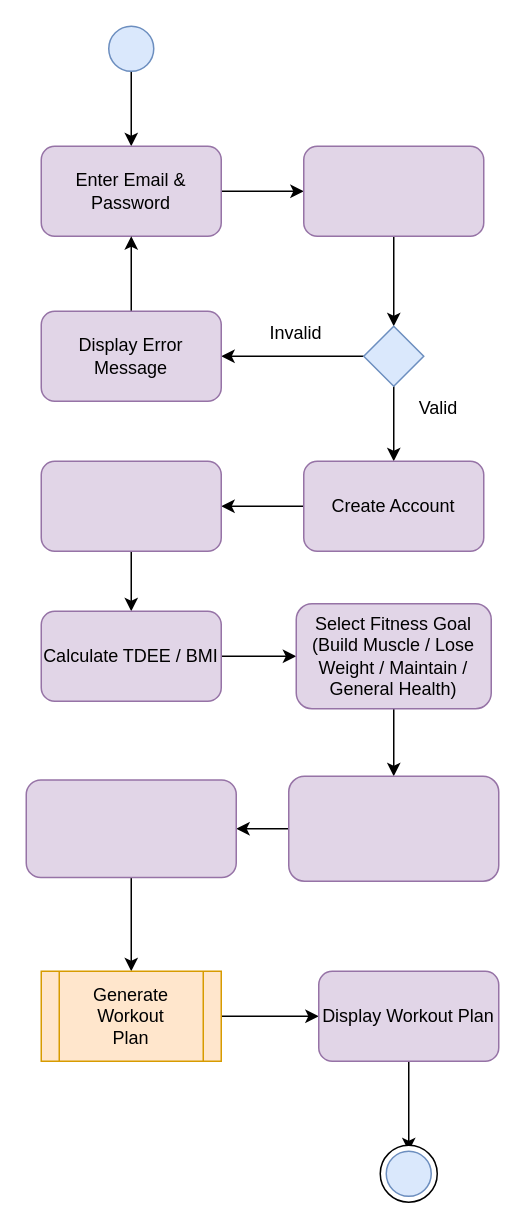
Some shapes in this 525 by 1229 pixel diagram are drawn without their labels. The centre of each missing label's shape, as x and y in pixels:
Enter Personal Info (Name, Age, Gender, Weight, Height): pixel 130 505
Select Available Equipment (Bodyweight / Dumbbells / Full Gym / etc.): pixel 393 828
Set Workout Preferences (Days per week, Duration, Preferred time): pixel 130 828
Validate Credentials: pixel 393 190
